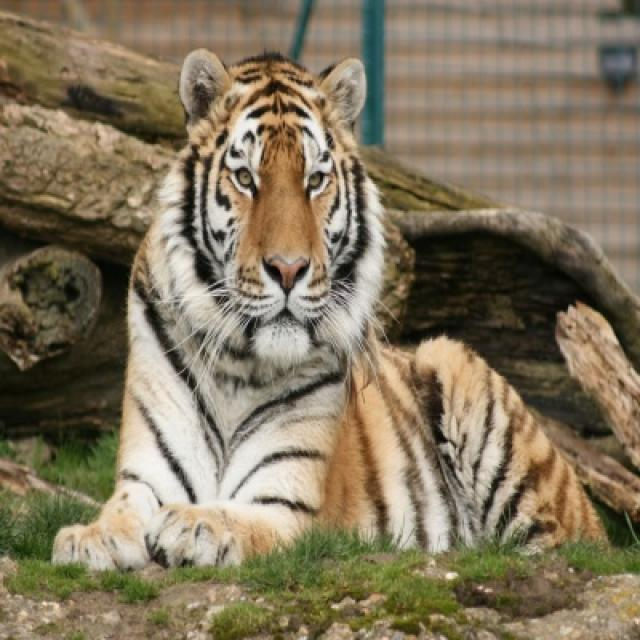Tiger: (55, 51, 608, 575)
